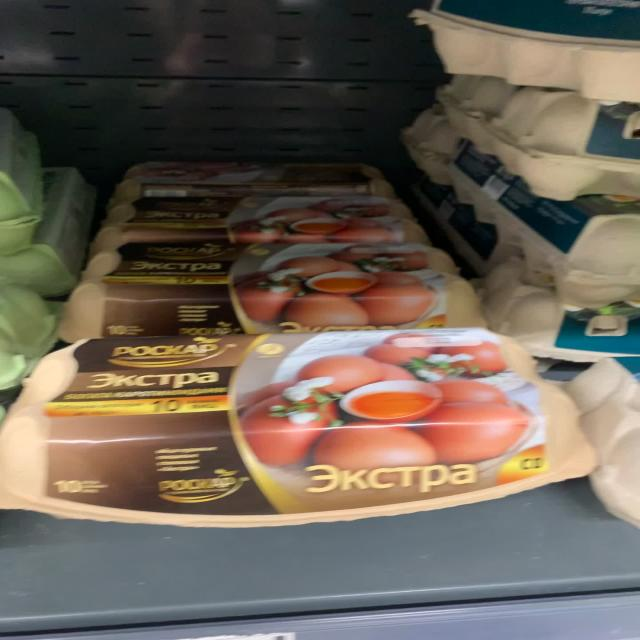egg box: (4, 333, 598, 521), (48, 251, 485, 330), (110, 156, 410, 207), (98, 201, 436, 246)
